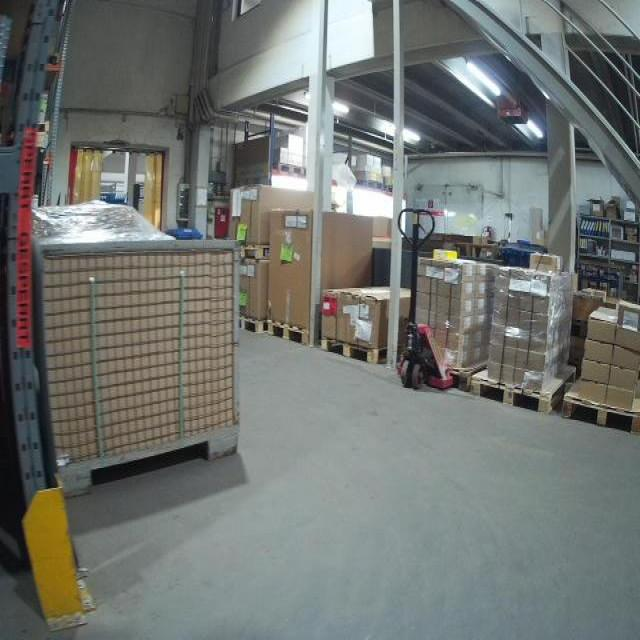pallet: (471, 365, 578, 416), (560, 371, 640, 433), (321, 332, 404, 367), (266, 316, 313, 349), (233, 240, 272, 260), (236, 311, 265, 335), (273, 161, 305, 175)
pallet_truck: (388, 208, 458, 394)
stillage: (29, 239, 240, 493)
